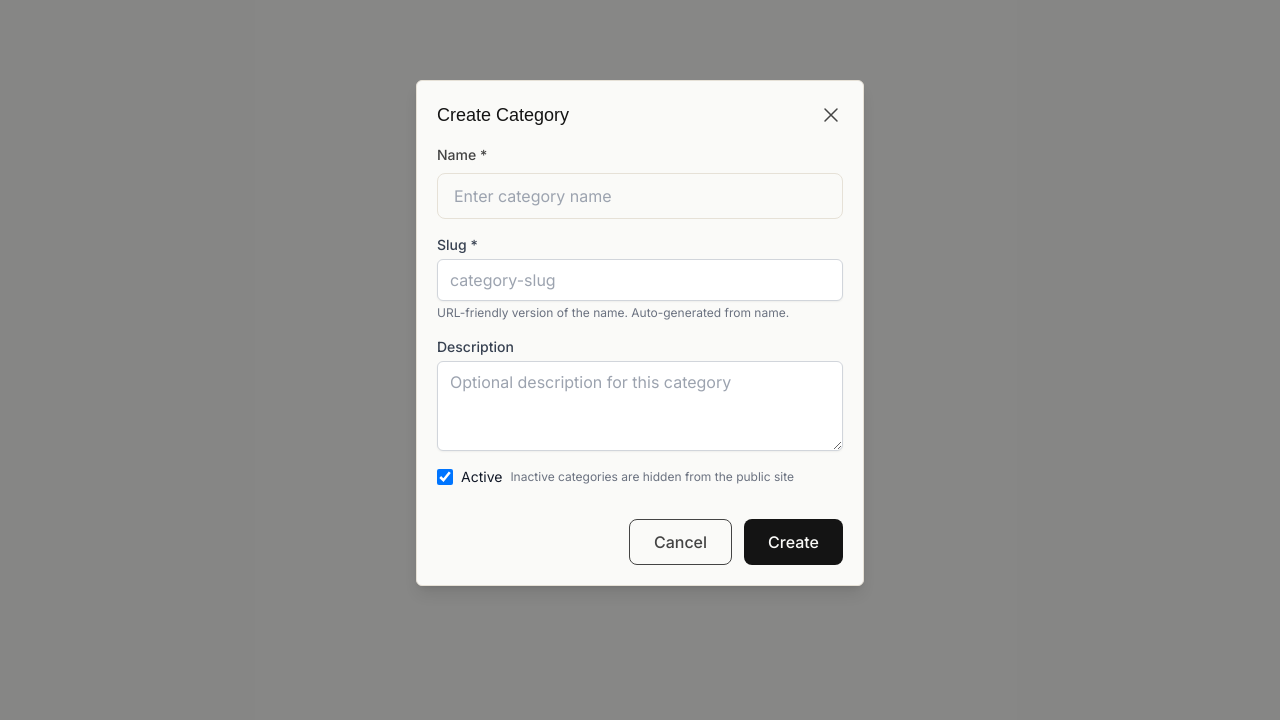
Scenario: CategoryForm › should auto-generate slug from name
The width and height of the screenshot is (1280, 720).
Type "Office Furniture" into the field labelled "Name *". click: x=640, y=196
box: [437,173,843,219]
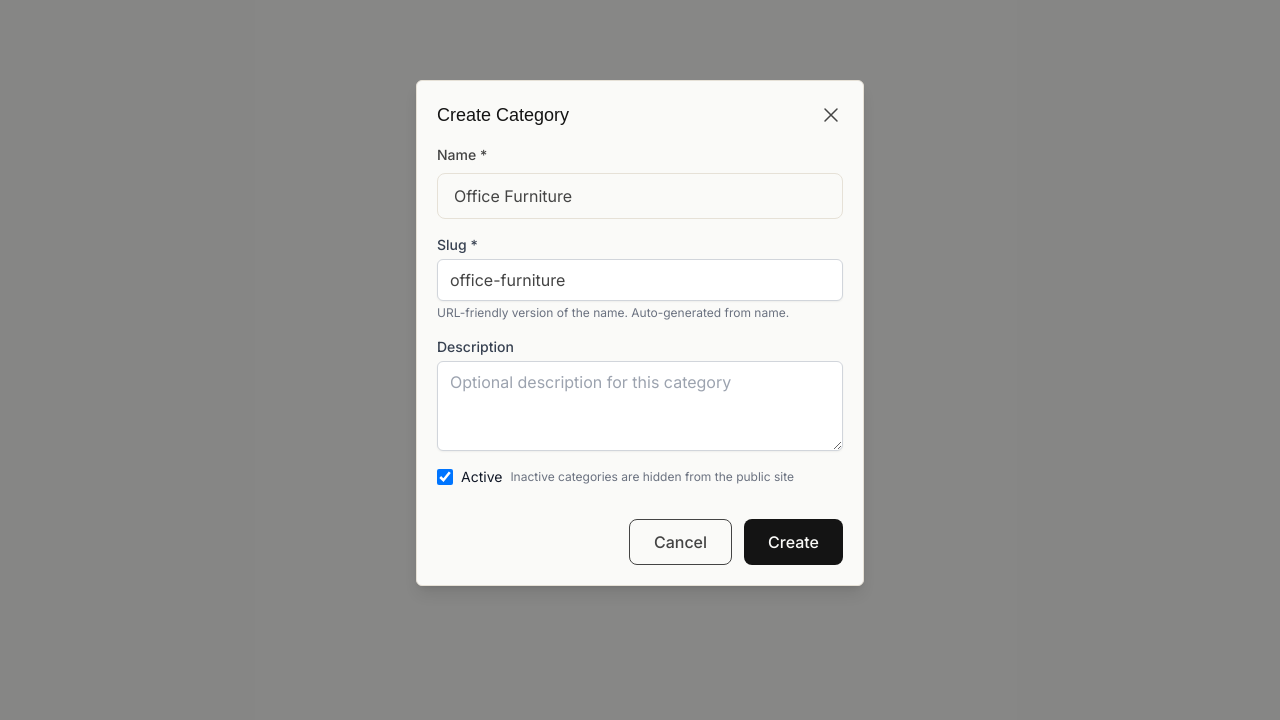
Result: the field labelled "Slug *" holds "office-furniture" at [437,259,843,301]
